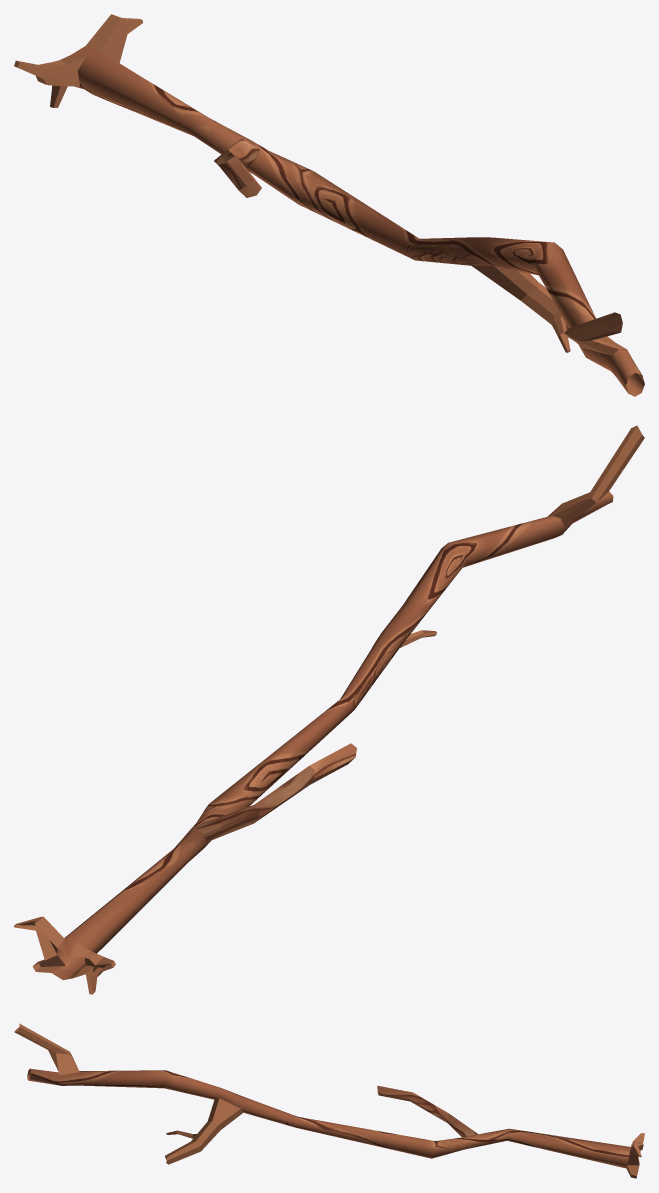
File: DeadTree2.fbx
3 views of the same model, one above another, from view 1: azimuth 30°, elevation 25°; view 2: azimuth 150°, elevation 25°; view 3: azimuth 270°, elevation 25° (orthographic). The views are drawn at different scales.
Visible parts, largest first — view 1: DeadTree2; view 2: DeadTree2; view 3: DeadTree2.
Boxes of the visible parts, left/top/right/bottom form: DeadTree2: left=14, top=14, right=644, bottom=396; DeadTree2: left=14, top=425, right=644, bottom=994; DeadTree2: left=14, top=1023, right=644, bottom=1178.
Bounding box in the file's own units: 673 × 921 × 4054.
1 material, 1 textured.
